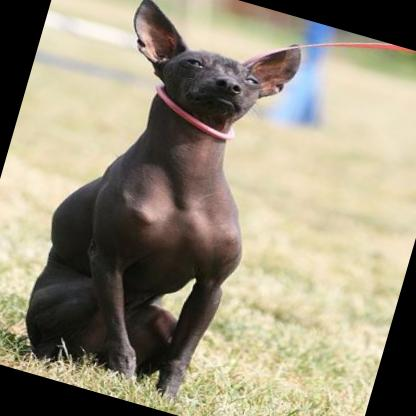Mexican_hairless: (11, 0, 305, 402)
